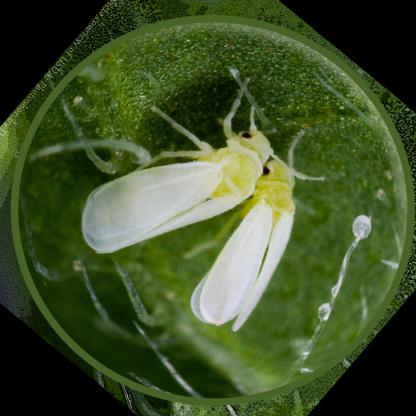whitefly: (83, 126, 273, 255), (192, 156, 298, 333)
